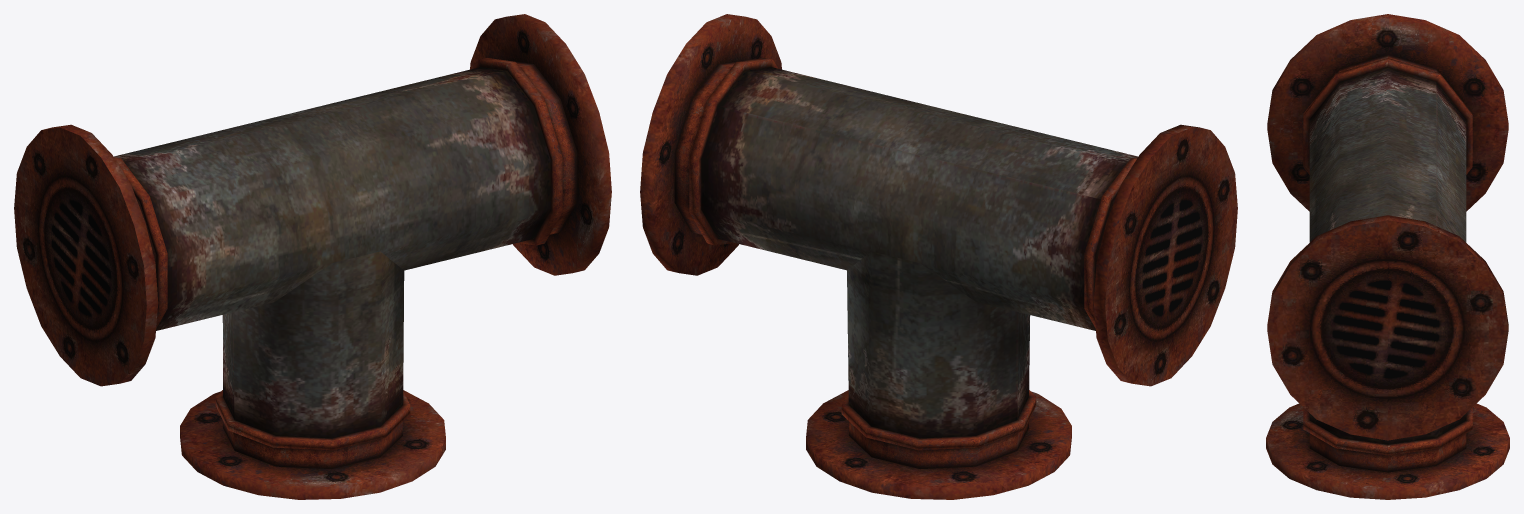
File: 3way.dae
3 renders of one model, left to right at view 1: azimuth 30°, elevation 25°; view 2: azimuth 150°, elevation 25°; view 3: azimuth 270°, elevation 25°, orthographic. The views are drawn at different scales.
Visible parts, largest first — view 1: polySurface776; view 2: polySurface776; view 3: polySurface776.
Boxes of the visible parts, <box> form: polySurface776: <box>14,14,611,499</box>; polySurface776: <box>640,14,1237,499</box>; polySurface776: <box>1266,14,1509,499</box>.
Bounding box in the file's own units: 1 × 0.7496 × 0.4996.
